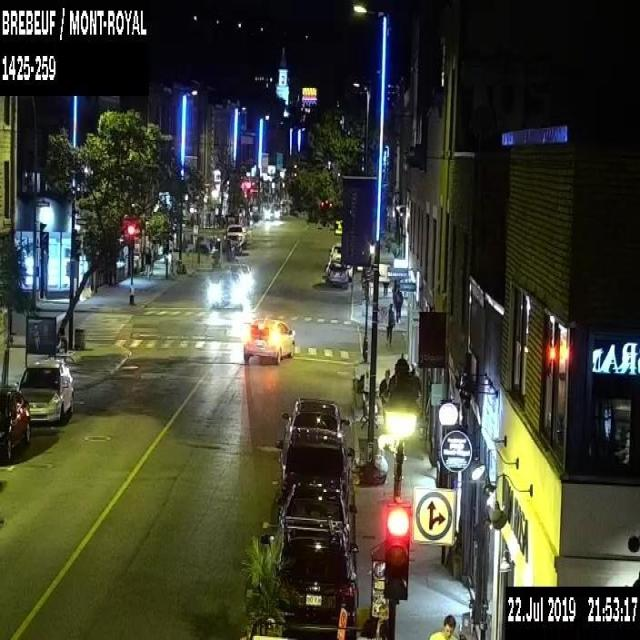pedestrian: (429, 612, 456, 639), (378, 365, 392, 400), (384, 303, 394, 344), (393, 288, 403, 325), (144, 246, 151, 279)
vehicle: (262, 516, 356, 626), (277, 480, 356, 546), (276, 430, 352, 486), (15, 357, 73, 425), (284, 393, 348, 441), (0, 382, 30, 462), (242, 317, 294, 363), (204, 272, 245, 308), (224, 263, 253, 296), (328, 243, 352, 280), (323, 258, 350, 287), (226, 221, 245, 247), (262, 202, 282, 220), (226, 234, 241, 254)
